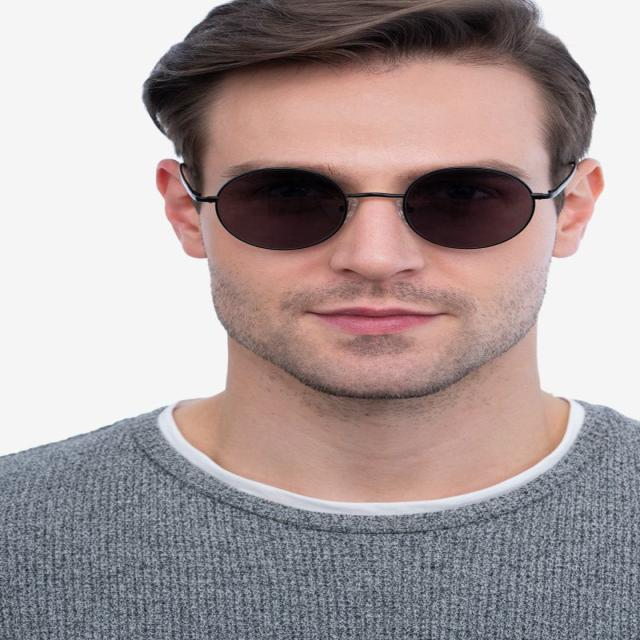2_gafas: (176, 158, 578, 252)
